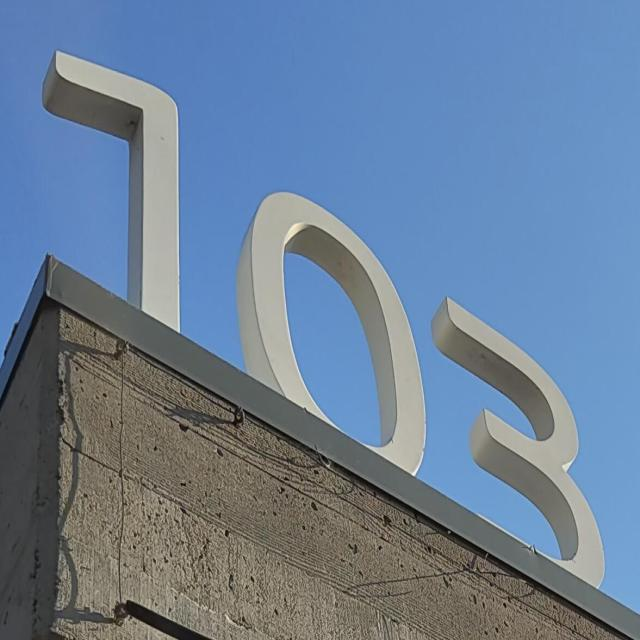character: (246, 182, 430, 496), (442, 291, 610, 597), (49, 42, 187, 343)
